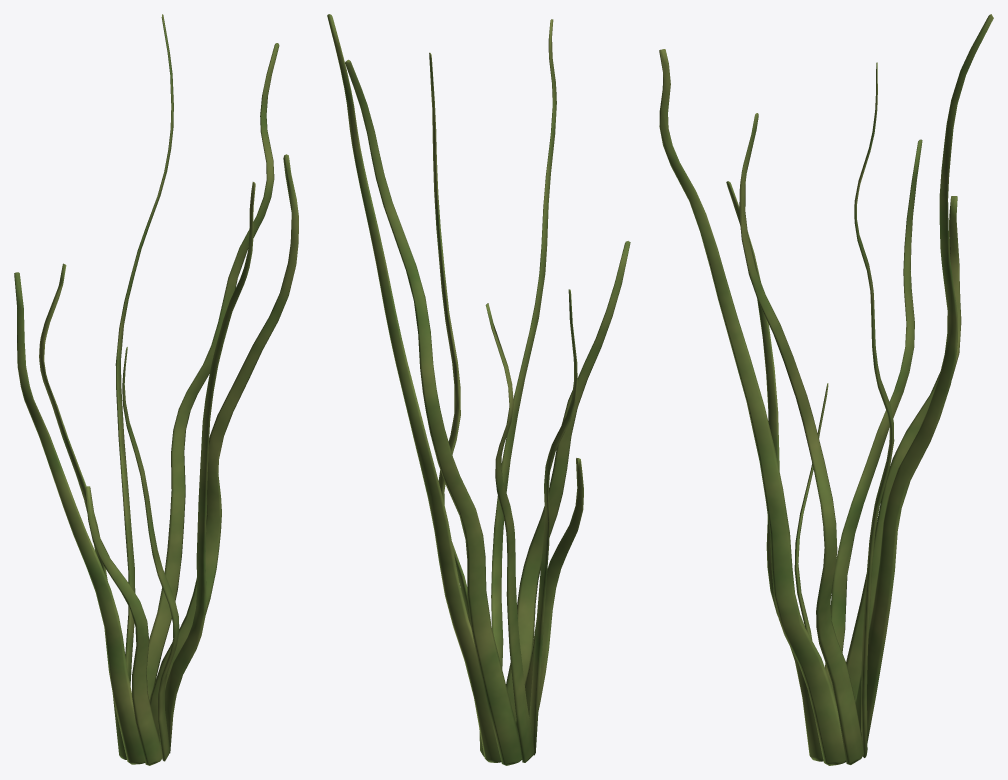
File: Водоросль_лёгкая.fbx
3 views of the same model, side by side, from view 1: azimuth 30°, elevation 25°; view 2: azimuth 150°, elevation 25°; view 3: azimuth 270°, elevation 25° (orthographic). The views are drawn at different scales.
Parts seen in each view (by area): view 1: set1_Cube; view 2: set1_Cube; view 3: set1_Cube.
Boxes of the visible parts, <box> form: set1_Cube: <box>14,14,298,765</box>; set1_Cube: <box>327,14,630,765</box>; set1_Cube: <box>659,14,993,765</box>.
Size of the model in its own units: 36.94 by 96.32 by 37.09.
